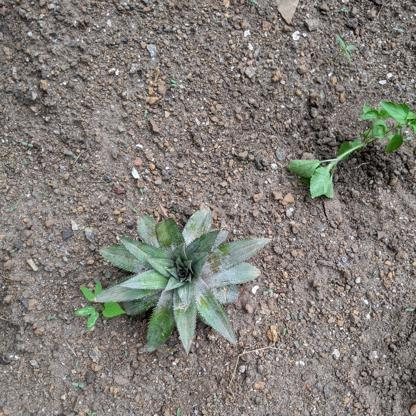pineapple: (88, 201, 270, 357)
weed: (287, 101, 416, 205), (73, 281, 112, 325)
